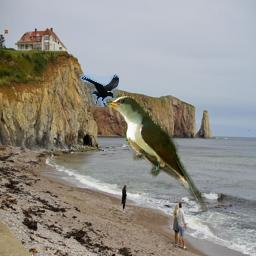Crow: (79, 74, 119, 107)
Cuckoo: (106, 93, 209, 212)
